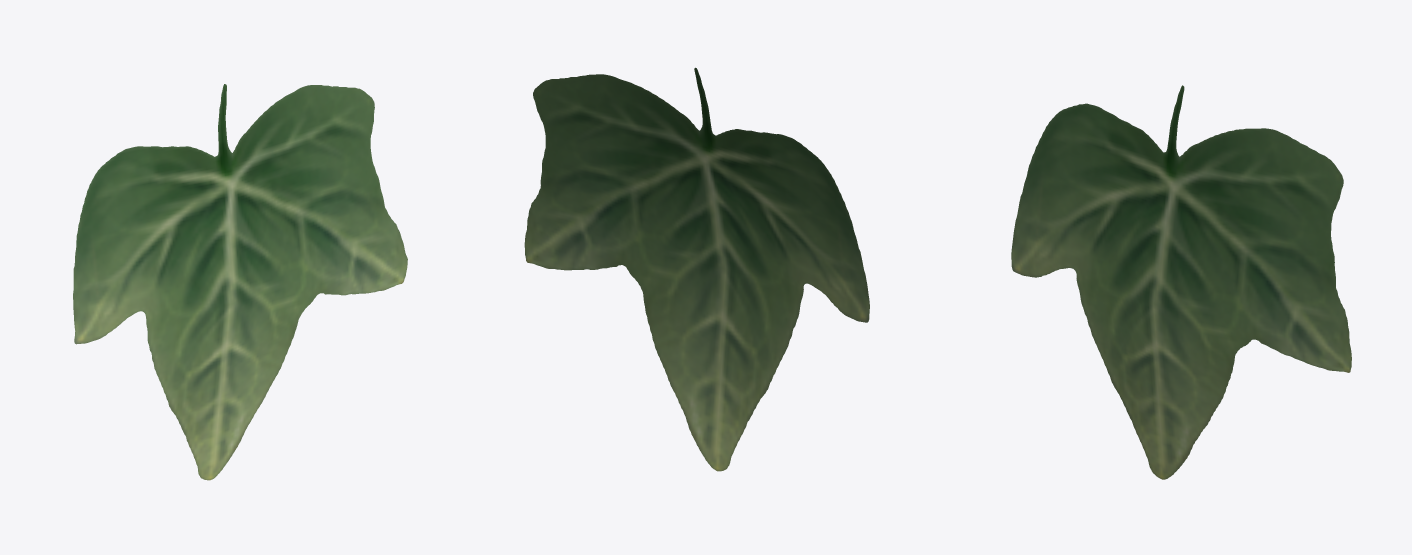
File: BgMD_vine01_06.fbx
3 renders of one model, left to right at view 1: azimuth 30°, elevation 25°; view 2: azimuth 150°, elevation 25°; view 3: azimuth 330°, elevation 25°, orthographic. The views are drawn at different scales.
Visible parts, largest first — view 1: BgMD_vine01_06; view 2: BgMD_vine01_06; view 3: BgMD_vine01_06.
Part boxes in pixels (bbox=[...]): BgMD_vine01_06: bbox=[73, 84, 407, 480]; BgMD_vine01_06: bbox=[524, 67, 869, 471]; BgMD_vine01_06: bbox=[1011, 85, 1351, 479].
Size of the model in its own units: 9.76 by 10.2 by 1.15.
